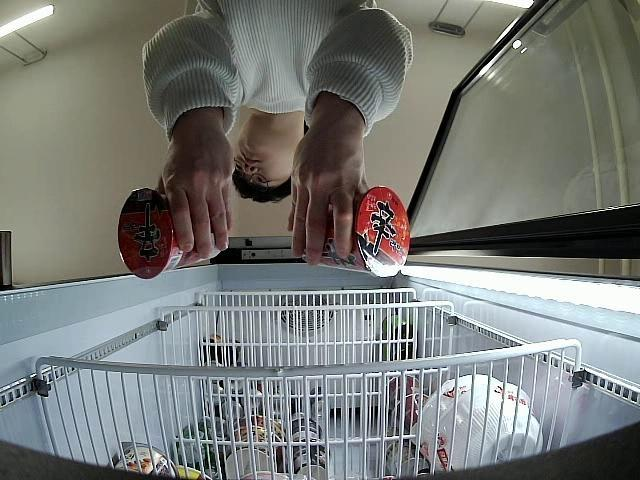02_shinRamen_S: (118, 188, 220, 282), (317, 186, 409, 278)
